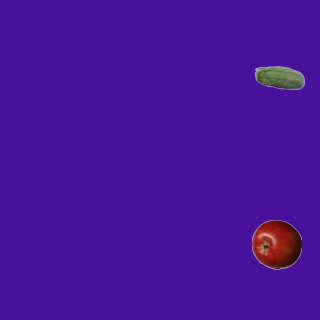Apple Braeburn: (251, 219, 301, 269)
Corn Husk: (254, 54, 304, 104)
